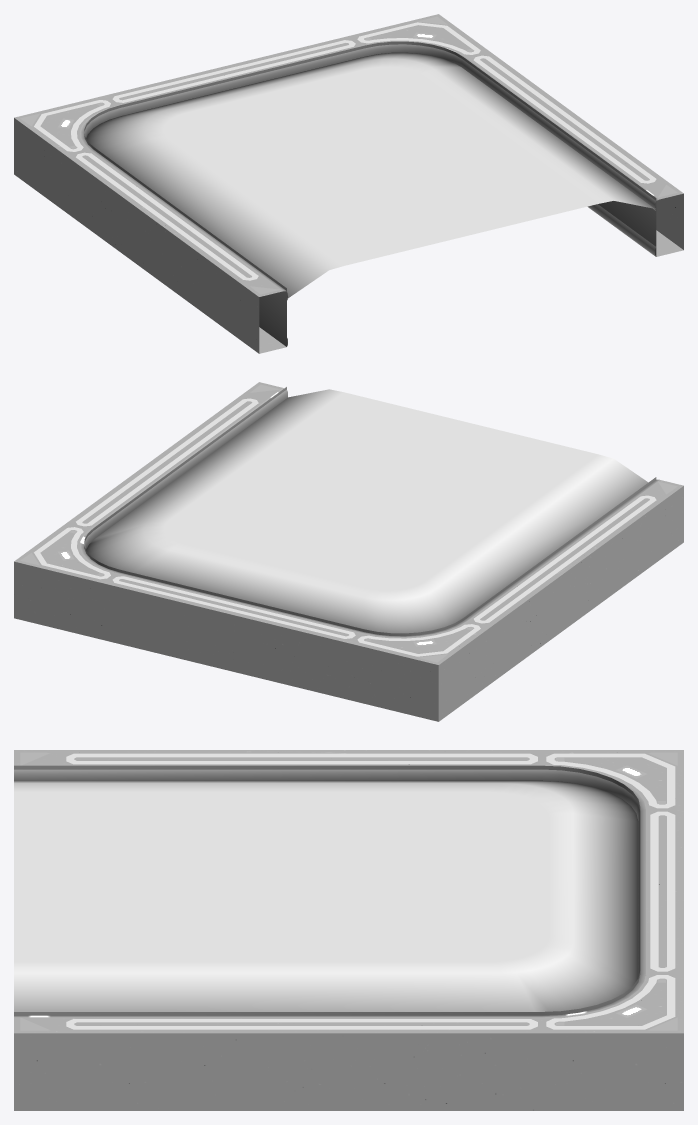
Rendered from SM_Modular_Ceiling_Window2_Merged.fbx.
The picture shows the model from 3 angles, top to bottom: view 1: azimuth 30°, elevation 25°; view 2: azimuth 150°, elevation 25°; view 3: azimuth 270°, elevation 25°; orthographic projection. The views are drawn at different scales.
Visible parts, largest first — view 1: SM_Modular_Ceiling_Window2_Merged_LOD0; view 2: SM_Modular_Ceiling_Window2_Merged_LOD0; view 3: SM_Modular_Ceiling_Window2_Merged_LOD0.
Part boxes in pixels (box(x1,y1,x2,y2)): SM_Modular_Ceiling_Window2_Merged_LOD0: box(14, 14, 683, 353); SM_Modular_Ceiling_Window2_Merged_LOD0: box(14, 382, 683, 721); SM_Modular_Ceiling_Window2_Merged_LOD0: box(14, 750, 683, 1110).
Size of the model in its own units: 500 by 500 by 75.83.
